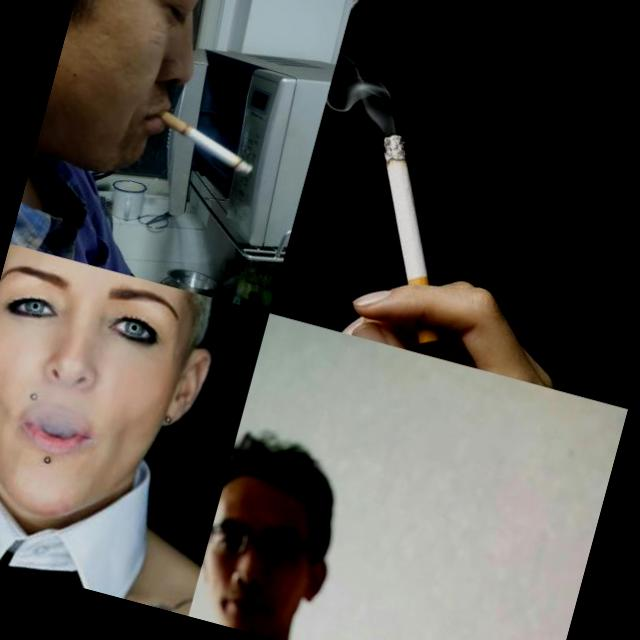smoke: (330, 127, 490, 353), (148, 106, 263, 179)
